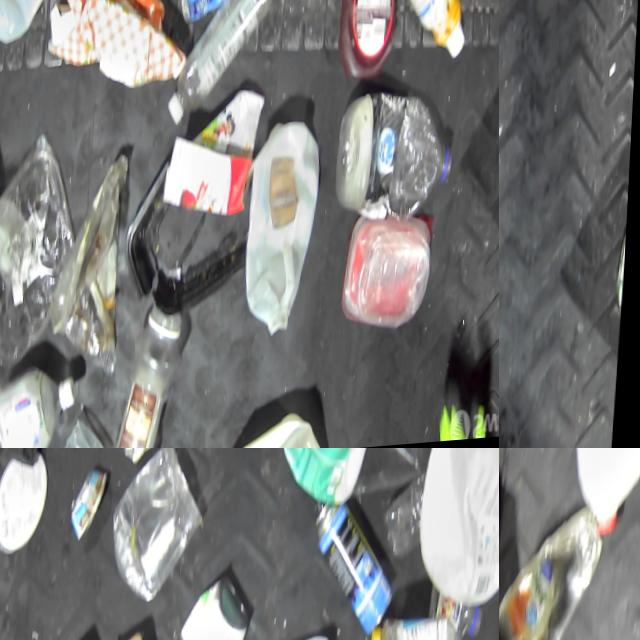can: (183, 584, 250, 640), (171, 0, 236, 34), (537, 0, 591, 13)
milk_jug: (246, 132, 323, 349), (419, 448, 499, 621), (570, 448, 640, 538), (0, 0, 98, 50)
non_white_jug: (271, 448, 373, 517), (340, 0, 403, 89)
plastic_bottle: (167, 0, 278, 140), (371, 617, 468, 640)
